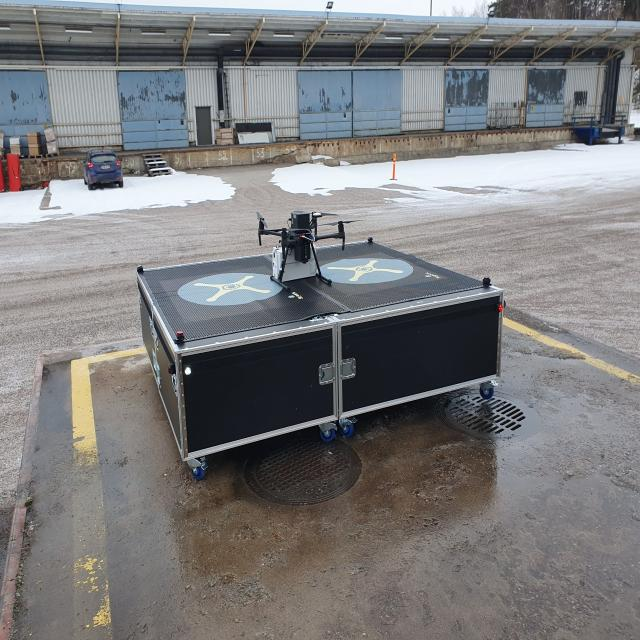drone: (254, 198, 365, 256)
